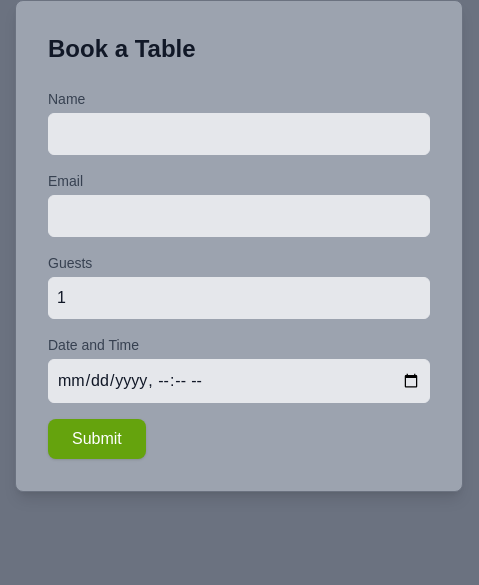
BookingForm › should display validation errors for empty fields when submitted
Click the button "Submit" at x=97, y=439, box [48,419,146,459]
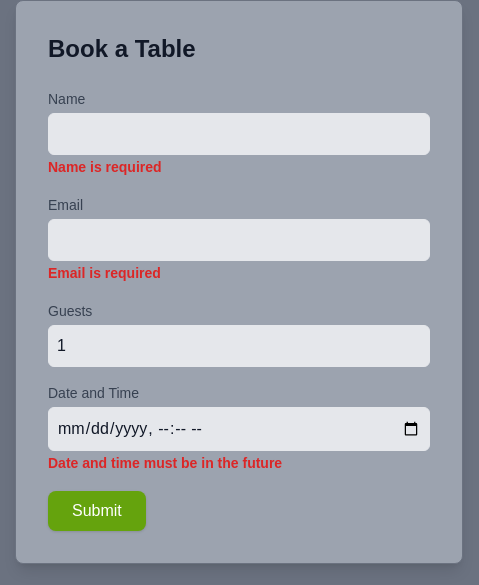
Now the text "Name is required" is shown, box [48,159,162,175]
Now the text "Email is required" is shown, box [48,265,161,281]
Now the text "Date and time must be in the future" is shown, box [48,455,282,471]
